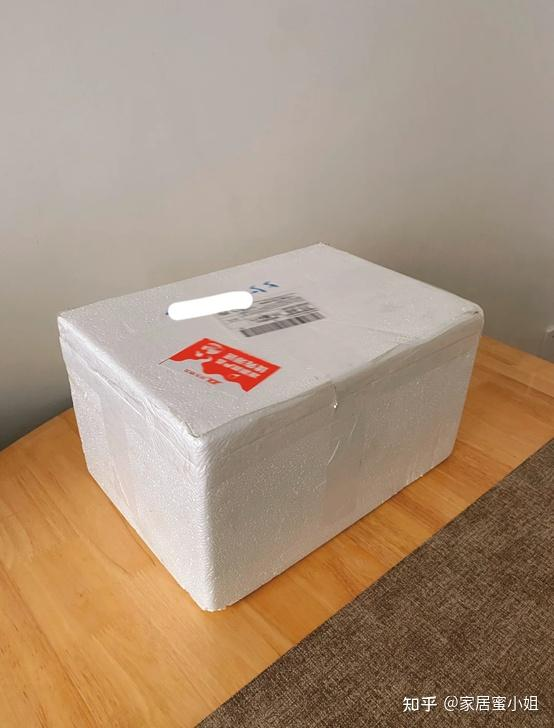泡沫箱: (58, 246, 482, 610)
